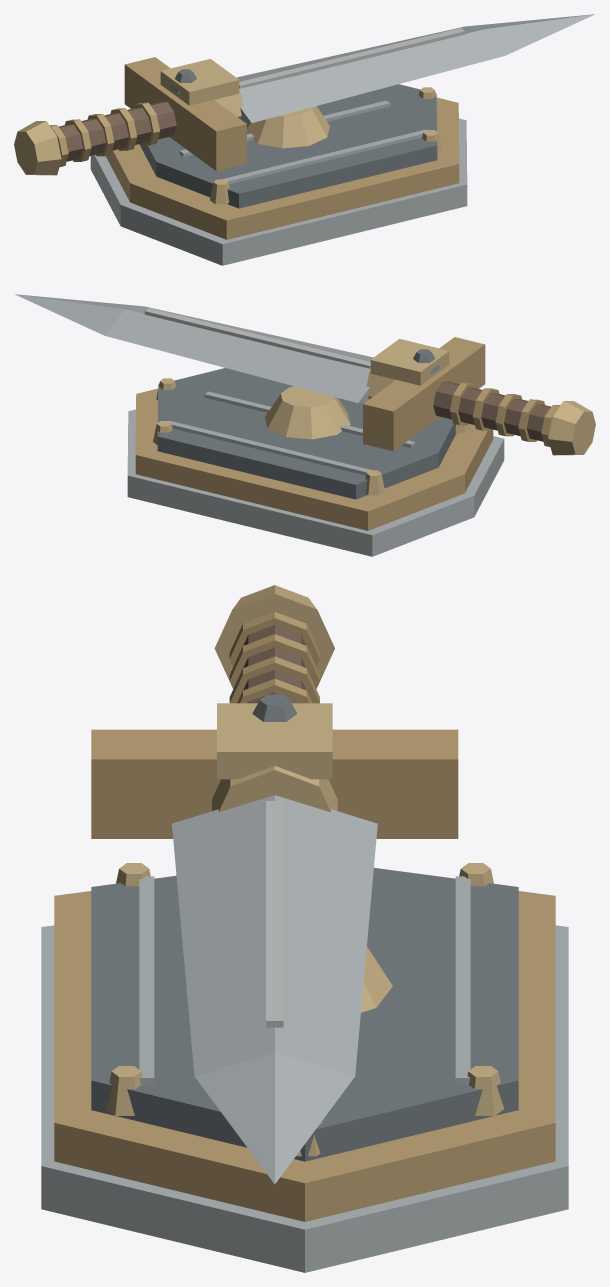
File: forged-sword-shield.glb
The picture shows the model from 3 angles, top to bottom: view 1: azimuth 30°, elevation 25°; view 2: azimuth 150°, elevation 25°; view 3: azimuth 270°, elevation 25°; orthographic projection. The views are drawn at different scales.
Parts seen in each view (by area): view 1: forged-sword-shield; view 2: forged-sword-shield; view 3: forged-sword-shield.
Part boxes in pixels (x1=…): forged-sword-shield: x1=14, y1=14, x2=595, y2=265; forged-sword-shield: x1=14, y1=294, x2=595, y2=556; forged-sword-shield: x1=41, y1=585, x2=568, y2=1272.
Bounding box in the file's own units: 0.524 × 0.128 × 0.21.
